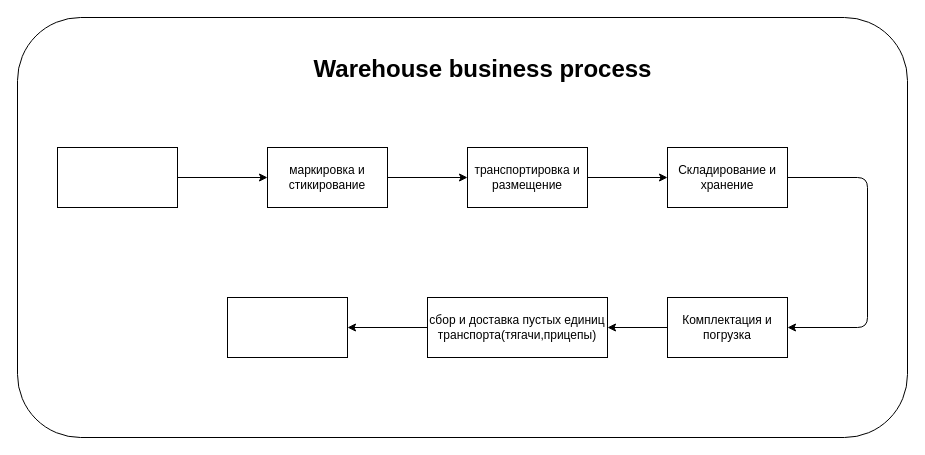
This 925x455 diagram has some shape labels left out. Here are the shapes that lost their labels. From the top down, the box of each, then its label:
(56, 146, 178, 208): разгрузка и приемка грузов
(226, 296, 348, 358): транспортировка и экспедиция транспортных заказов
